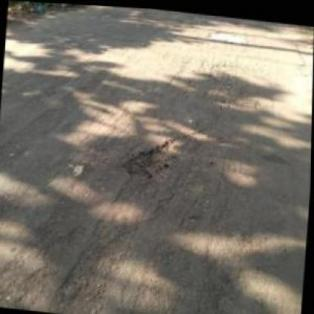Hueco: (120, 130, 181, 184)
